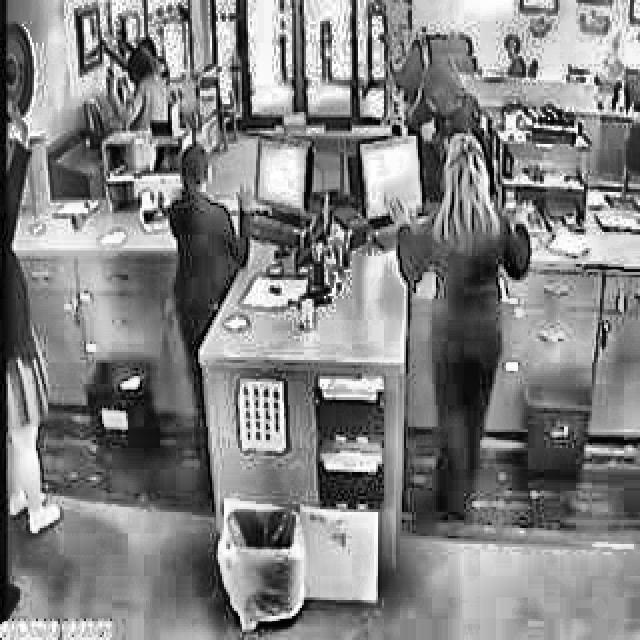robbery: (379, 129, 538, 289), (163, 137, 258, 272), (360, 32, 490, 130), (94, 26, 177, 132)
